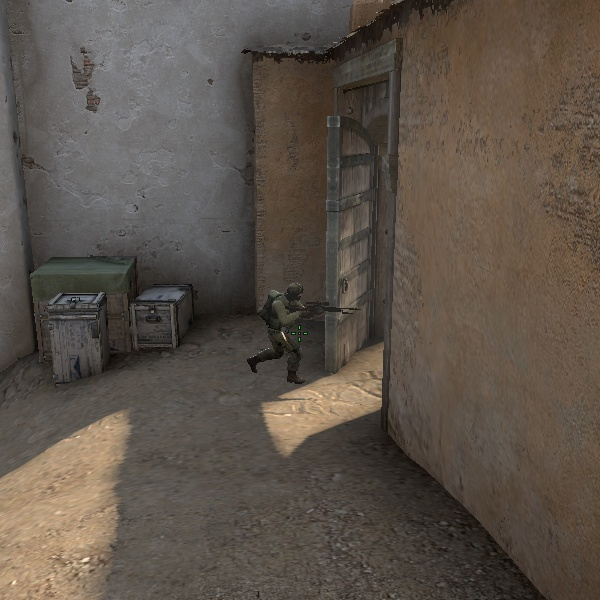ct_body: (259, 279, 315, 380)
ct_head: (286, 282, 304, 302)
